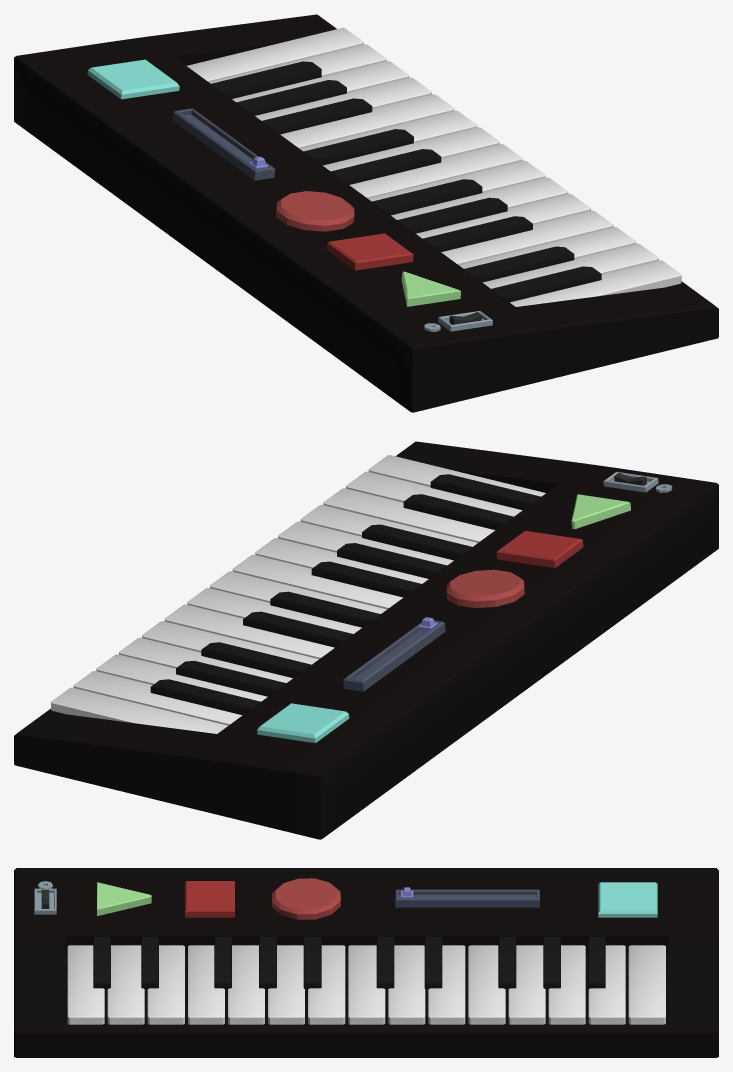
File: Pianov3.fbx
3 renders of one model, top to bottom at view 1: azimuth 30°, elevation 25°; view 2: azimuth 150°, elevation 25°; view 3: azimuth 270°, elevation 25°, orthographic. The views are drawn at different scales.
Visible parts, largest first — view 1: Cube, WhiteKeys, BlackTrioKeys, BlackDuoKeys, Circle, HelpButton, Cube.001, PauseButton, PlayButtoon rot 5.2; view 2: Cube, WhiteKeys, BlackTrioKeys, BlackDuoKeys, Circle, HelpButton, Cube.001, PauseButton, PlayButtoon rot 5.2; view 3: Cube, WhiteKeys, BlackTrioKeys, BlackDuoKeys, Cube.001, Circle, HelpButton, PauseButton, PlayButtoon rot 5.2, SwichBASE.
Boxes of the visible parts, x1,y1,x2,y2 form: Cube: [14, 14, 718, 412]; WhiteKeys: [187, 27, 681, 306]; BlackTrioKeys: [211, 61, 532, 251]; BlackDuoKeys: [303, 129, 601, 302]; Circle: [276, 191, 354, 231]; HelpButton: [87, 59, 179, 99]; Cube.001: [173, 108, 275, 180]; PauseButton: [326, 233, 413, 270]; PlayButtoon rot 5.2: [401, 271, 461, 306]; Cube: [14, 441, 718, 839]; WhiteKeys: [51, 455, 545, 733]; BlackTrioKeys: [150, 524, 471, 715]; BlackDuoKeys: [243, 474, 540, 647]; Circle: [446, 569, 524, 607]; HelpButton: [257, 703, 349, 743]; Cube.001: [343, 620, 445, 691]; PauseButton: [496, 530, 583, 567]; PlayButtoon rot 5.2: [571, 494, 630, 529]; Cube: [14, 868, 718, 1057]; WhiteKeys: [67, 945, 665, 1024]; BlackTrioKeys: [214, 936, 605, 994]; BlackDuoKeys: [93, 936, 442, 991]; Cube.001: [395, 889, 539, 907]; Circle: [272, 878, 340, 919]; HelpButton: [598, 882, 657, 917]; PauseButton: [185, 881, 234, 917]; PlayButtoon rot 5.2: [97, 882, 151, 916]; SwichBASE: [34, 888, 56, 914].
Bounding box in the file's own units: 110 × 25.78 × 247.
